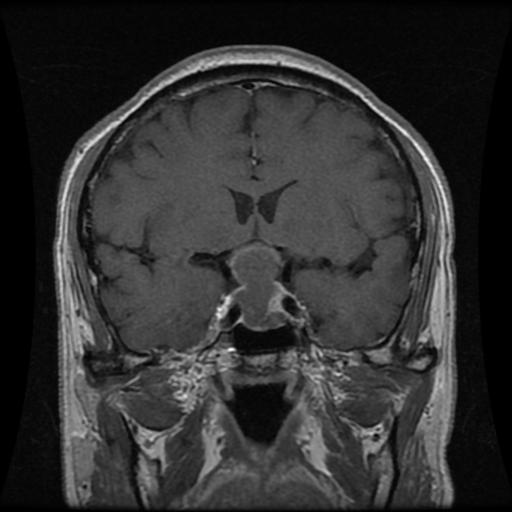Pituirity_tumour: (216, 242, 293, 330)
